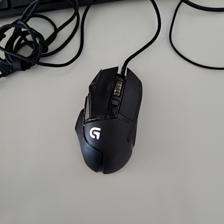mouse: (74, 66, 143, 175)
